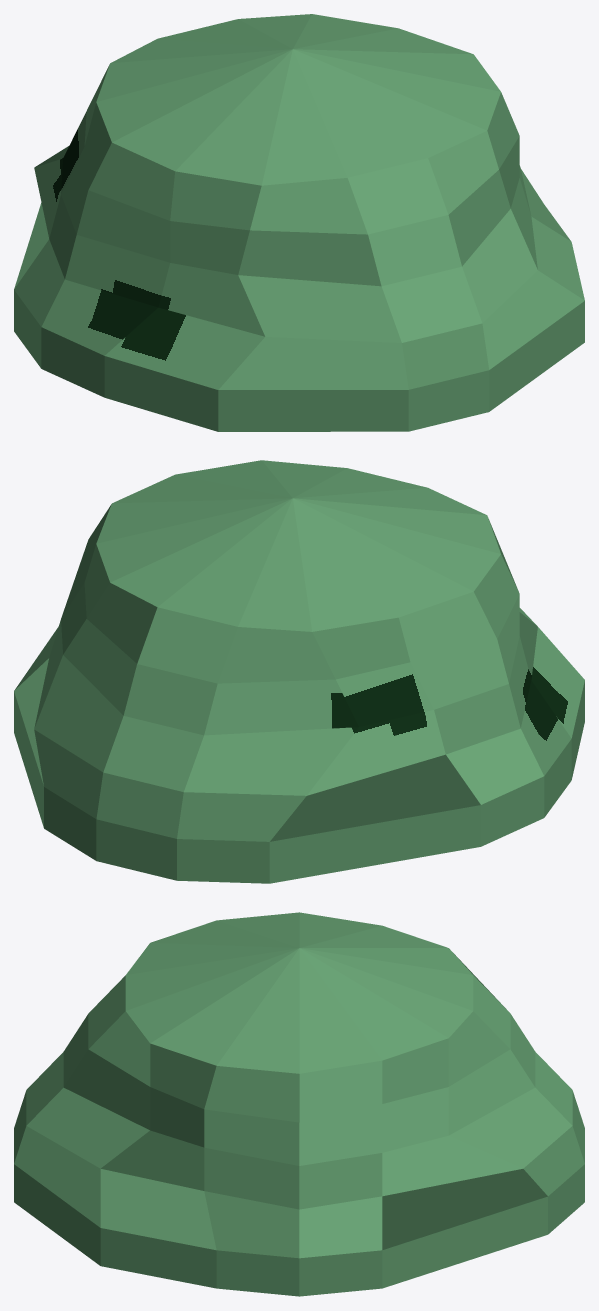
Rendered from slimeball.gltf.
The picture shows the model from 3 angles, top to bottom: view 1: azimuth 30°, elevation 25°; view 2: azimuth 150°, elevation 25°; view 3: azimuth 270°, elevation 25°; orthographic projection. The views are drawn at different scales.
Parts seen in each view (by area): view 1: cylinder; view 2: cylinder; view 3: cylinder.
Part boxes in pixels (bbox=[...]): cylinder: bbox=[14, 14, 584, 431]; cylinder: bbox=[14, 460, 584, 883]; cylinder: bbox=[14, 912, 584, 1296].
Bounding box in the file's own units: 2.67 × 1.31 × 2.88.
1 material, 1 textured.
